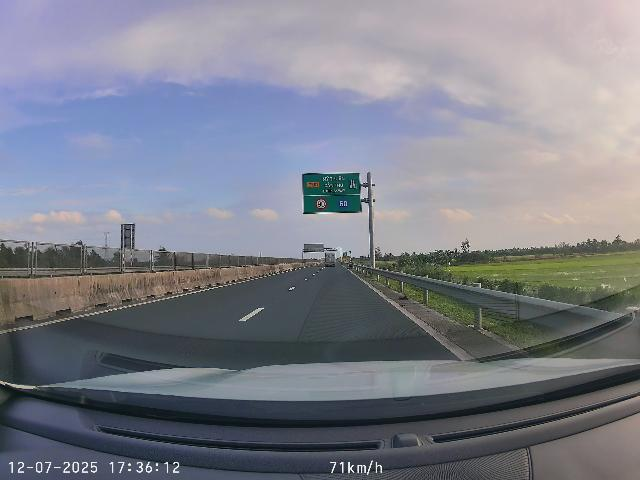127-toc-do-toi-da-90: (315, 197, 328, 211)
306-toc-do-toi-thieu-60: (337, 197, 350, 209)
437-bat-dau-duong-cao-toc: (348, 178, 357, 190)
